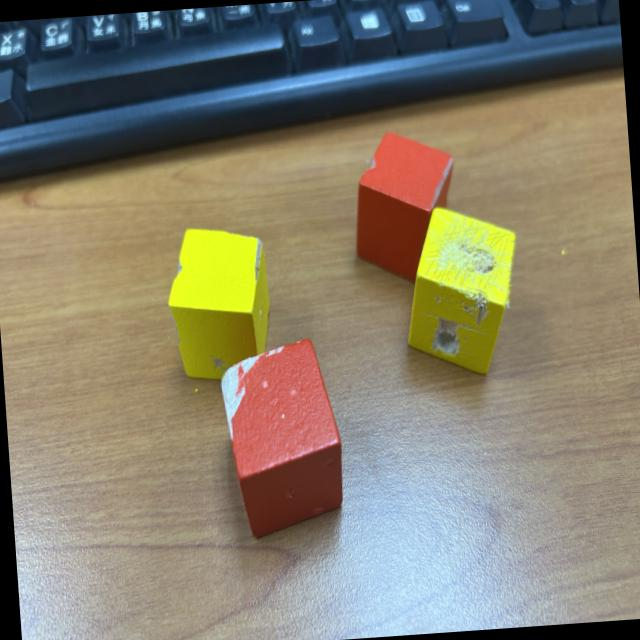broken: (217, 336, 348, 539), (398, 202, 526, 380), (162, 222, 276, 382), (348, 128, 462, 288)
